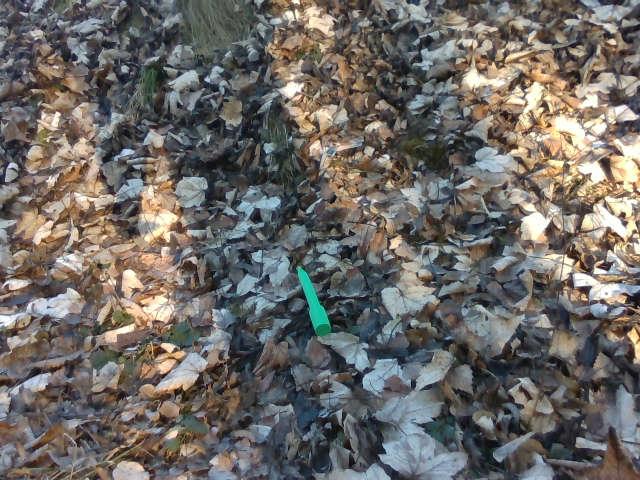Probe: (290, 264, 337, 336)
